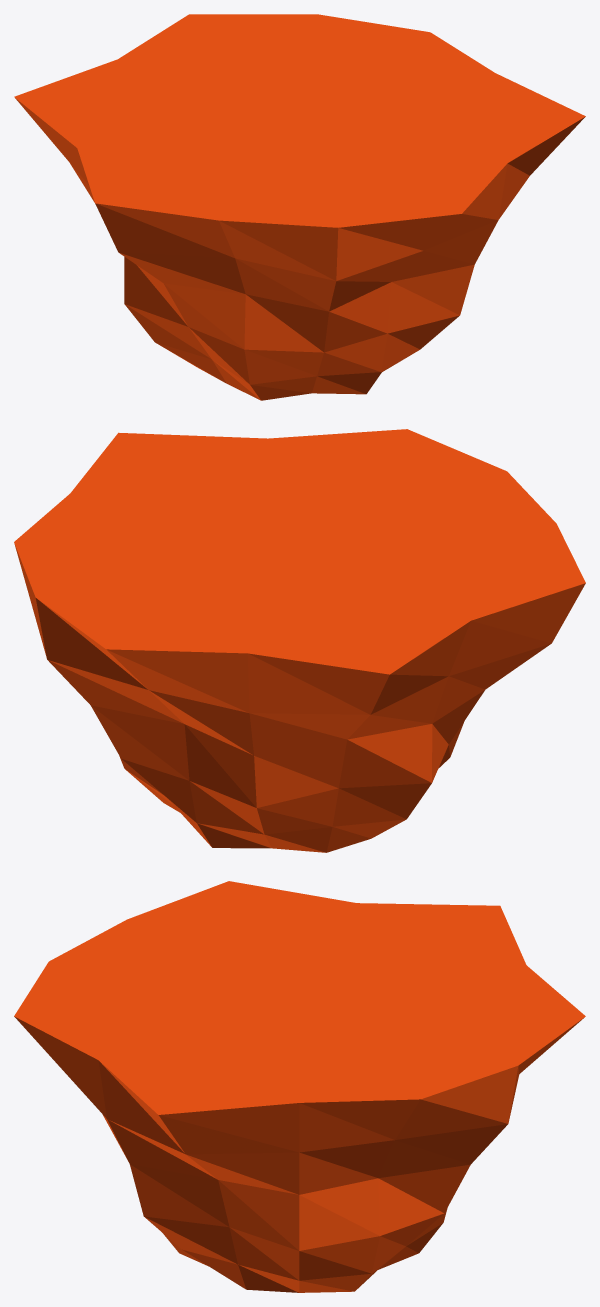
The model's file is magma_pressure_column.obj.
The picture shows the model from 3 angles, top to bottom: view 1: azimuth 30°, elevation 25°; view 2: azimuth 150°, elevation 25°; view 3: azimuth 270°, elevation 25°; orthographic projection. The views are drawn at different scales.
Parts seen in each view (by area): view 1: magma_pressure_column; view 2: magma_pressure_column; view 3: magma_pressure_column.
Part boxes in pixels (x1,y1,x2,y2): magma_pressure_column: (14, 14, 585, 400); magma_pressure_column: (14, 429, 585, 852); magma_pressure_column: (14, 881, 585, 1292).
Bounding box in the file's own units: 2.04 × 1 × 2.11.
